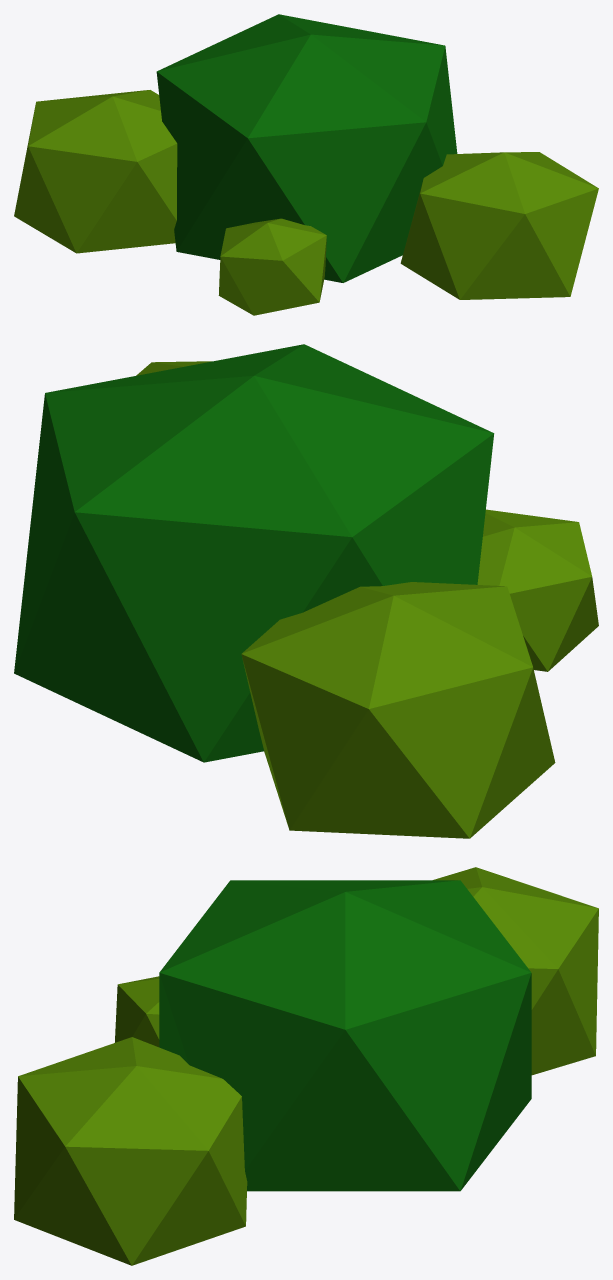
Rendered from bush (1).fbx.
3 views of the same model, one above another, from view 1: azimuth 30°, elevation 25°; view 2: azimuth 150°, elevation 25°; view 3: azimuth 270°, elevation 25° (orthographic). The views are drawn at different scales.
Parts seen in each view (by area): view 1: Icosphere; view 2: Icosphere; view 3: Icosphere.
Boxes of the visible parts, <box> form: Icosphere: <box>14,14,598,315</box>; Icosphere: <box>14,344,598,838</box>; Icosphere: <box>14,867,598,1265</box>.
Bounding box in the file's own units: 276 × 138 × 267.
